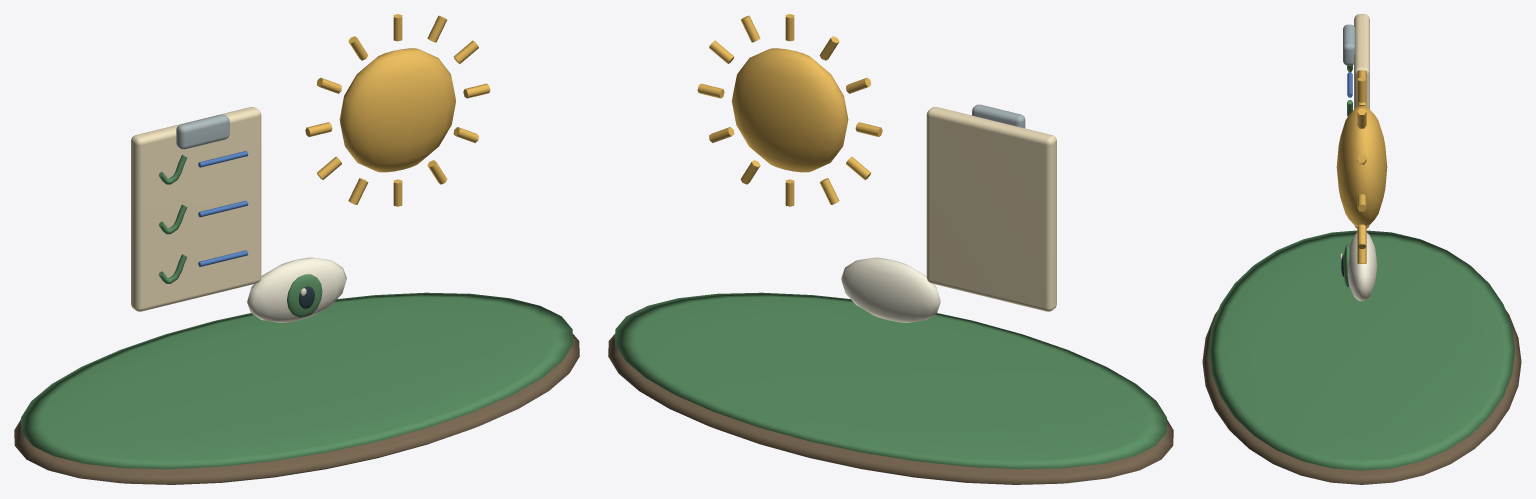
The model's file is complete-second-proof-bright.glb.
The picture shows the model from 3 angles, left to right: view 1: azimuth 30°, elevation 25°; view 2: azimuth 150°, elevation 25°; view 3: azimuth 270°, elevation 25°; orthographic projection. The views are drawn at different scales.
Parts seen in each view (by area): view 1: complete-second-proof-bright_surface_01, complete-second-proof-bright_surface_02, complete-second-proof-bright_surface_05, complete-second-proof-bright_surface_00, complete-second-proof-bright_surface_06, complete-second-proof-bright_surface_03, complete-second-proof-bright_surface_04; view 2: complete-second-proof-bright_surface_01, complete-second-proof-bright_surface_02, complete-second-proof-bright_surface_05, complete-second-proof-bright_surface_00, complete-second-proof-bright_surface_06, complete-second-proof-bright_surface_03; view 3: complete-second-proof-bright_surface_01, complete-second-proof-bright_surface_00, complete-second-proof-bright_surface_05, complete-second-proof-bright_surface_06, complete-second-proof-bright_surface_02, complete-second-proof-bright_surface_03.
Part boxes in pixels (x1=…): complete-second-proof-bright_surface_01: x1=21, y1=155, x2=572, y2=469; complete-second-proof-bright_surface_02: x1=131, y1=107, x2=261, y2=311; complete-second-proof-bright_surface_05: x1=305, y1=14, x2=490, y2=206; complete-second-proof-bright_surface_00: x1=14, y1=333, x2=579, y2=484; complete-second-proof-bright_surface_06: x1=247, y1=257, x2=346, y2=322; complete-second-proof-bright_surface_03: x1=176, y1=114, x2=229, y2=149; complete-second-proof-bright_surface_04: x1=198, y1=151, x2=248, y2=266; complete-second-proof-bright_surface_01: x1=615, y1=292, x2=1166, y2=469; complete-second-proof-bright_surface_02: x1=926, y1=107, x2=1056, y2=311; complete-second-proof-bright_surface_05: x1=697, y1=14, x2=882, y2=206; complete-second-proof-bright_surface_00: x1=608, y1=333, x2=1173, y2=484; complete-second-proof-bright_surface_06: x1=841, y1=257, x2=940, y2=322; complete-second-proof-bright_surface_03: x1=972, y1=104, x2=1025, y2=128; complete-second-proof-bright_surface_01: x1=1209, y1=65, x2=1514, y2=470; complete-second-proof-bright_surface_00: x1=1202, y1=309, x2=1521, y2=484; complete-second-proof-bright_surface_05: x1=1336, y1=70, x2=1387, y2=263; complete-second-proof-bright_surface_06: x1=1340, y1=232, x2=1377, y2=301; complete-second-proof-bright_surface_02: x1=1354, y1=14, x2=1369, y2=228; complete-second-proof-bright_surface_03: x1=1343, y1=24, x2=1355, y2=65.
Size of the model in its own units: 4.56 by 2.97 by 2.5.
